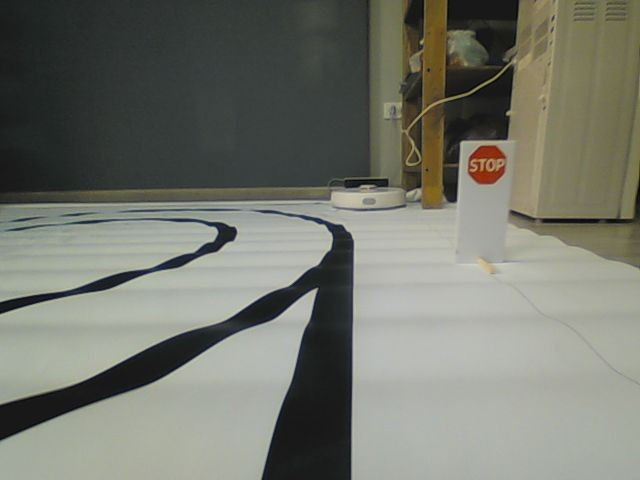Stop: (466, 145, 508, 185)
